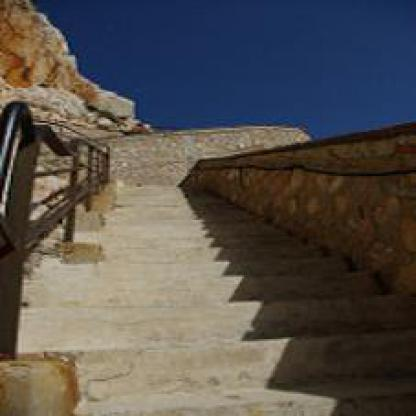stair_up: (49, 207, 383, 398)
